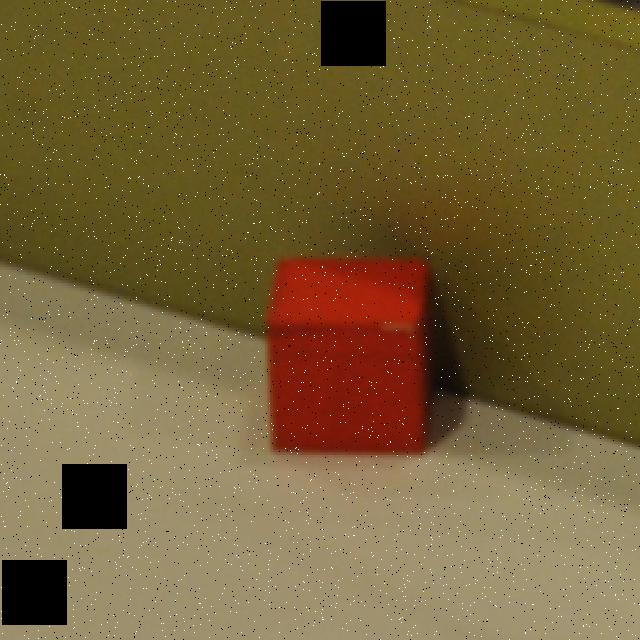red cube: (273, 267, 430, 455)
